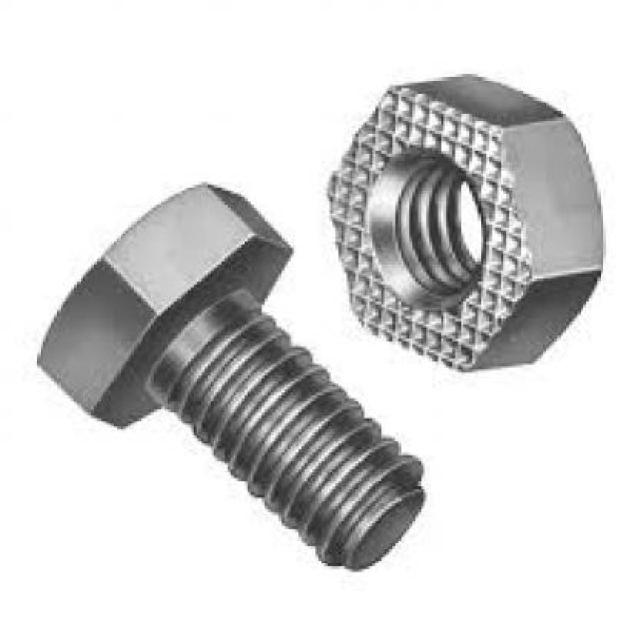METAL: (31, 179, 422, 566), (325, 71, 600, 372)
